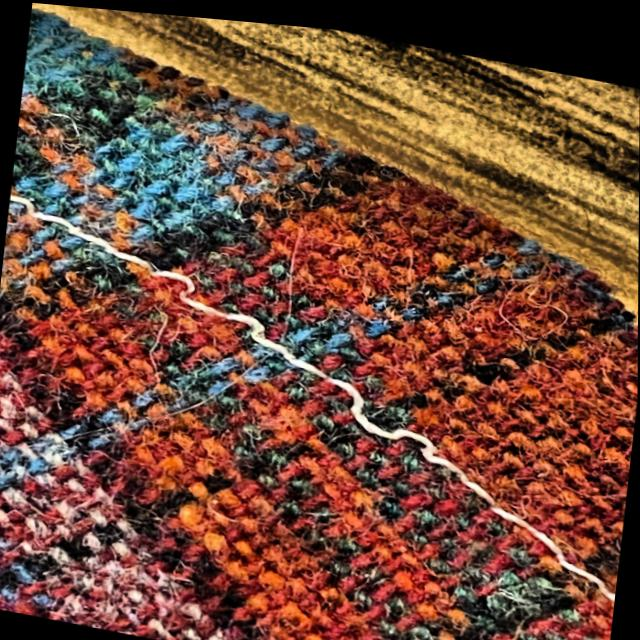Stitch: (335, 371, 454, 464), (128, 236, 210, 314), (205, 290, 289, 346)
